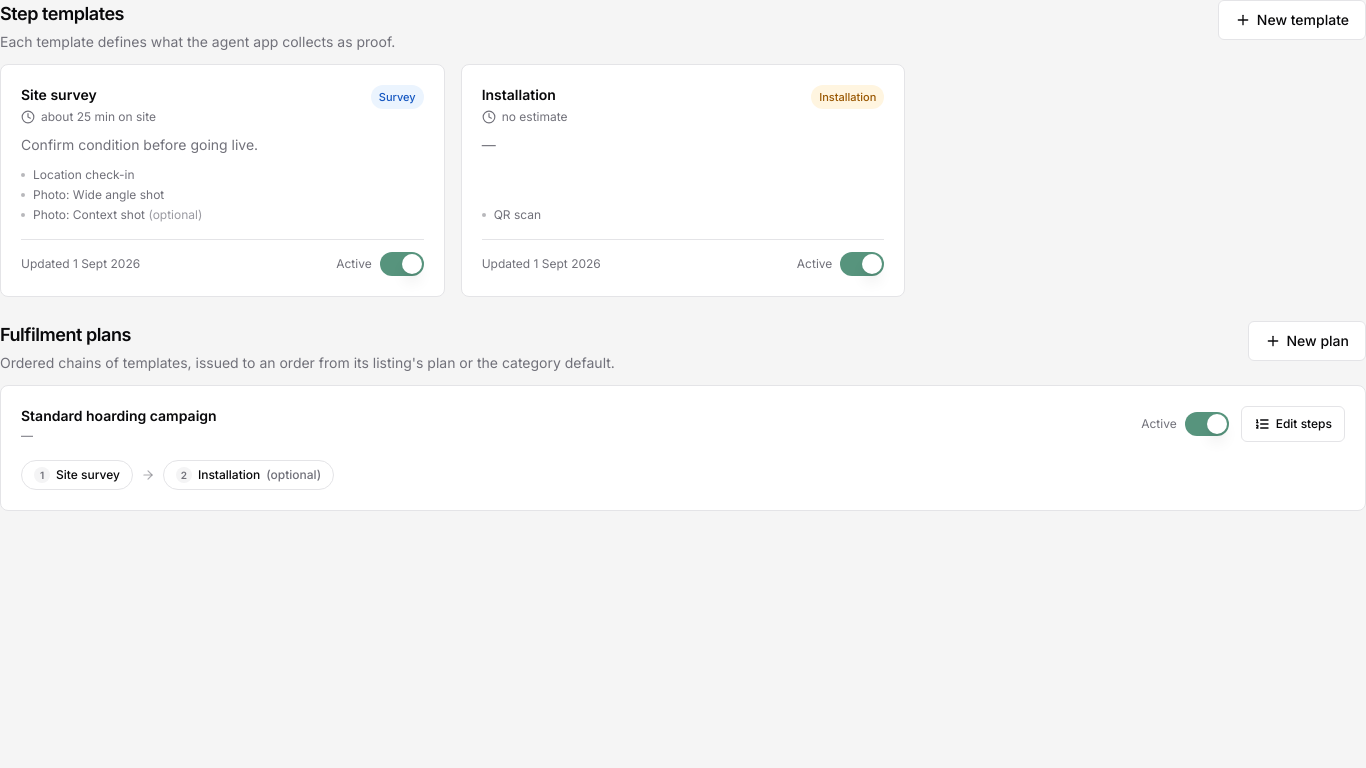
Scenario: editing a plan's steps › will not save an empty chain — the server refuses one
This screenshot has width=1366, height=768.
Click the button "Edit steps": (1293, 424) [1241,406,1345,442]
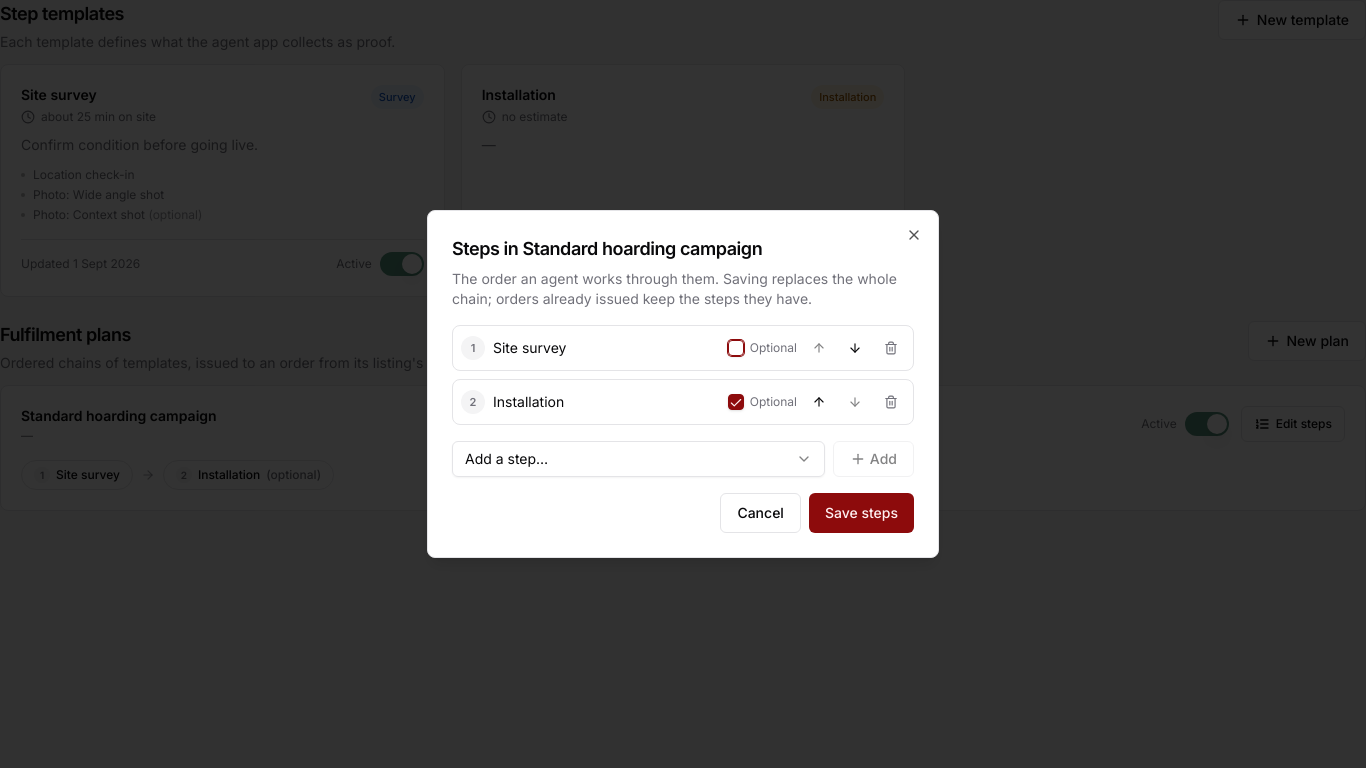
Click the 1st button named "Remove this step": (891, 348) [877,334,905,362]
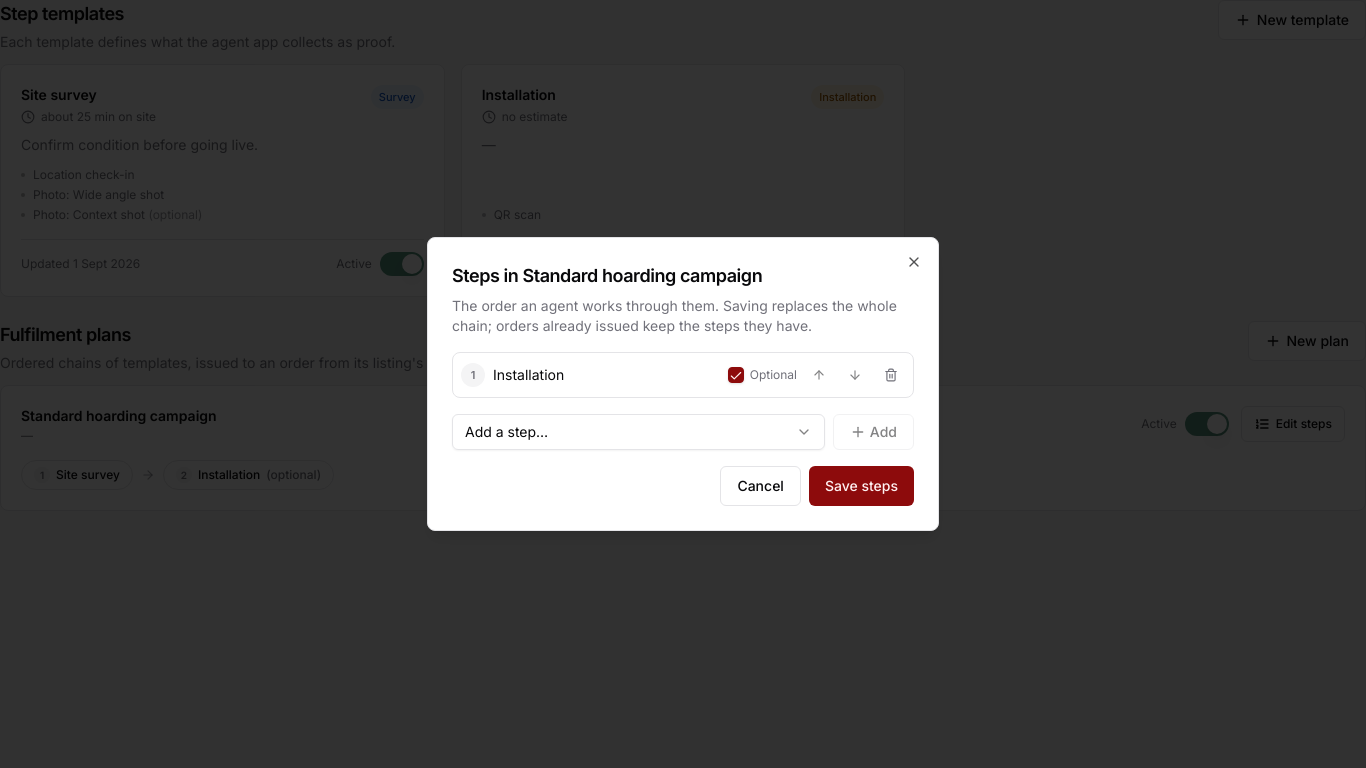
Click the button named "Remove this step": (891, 375) [877,361,905,389]
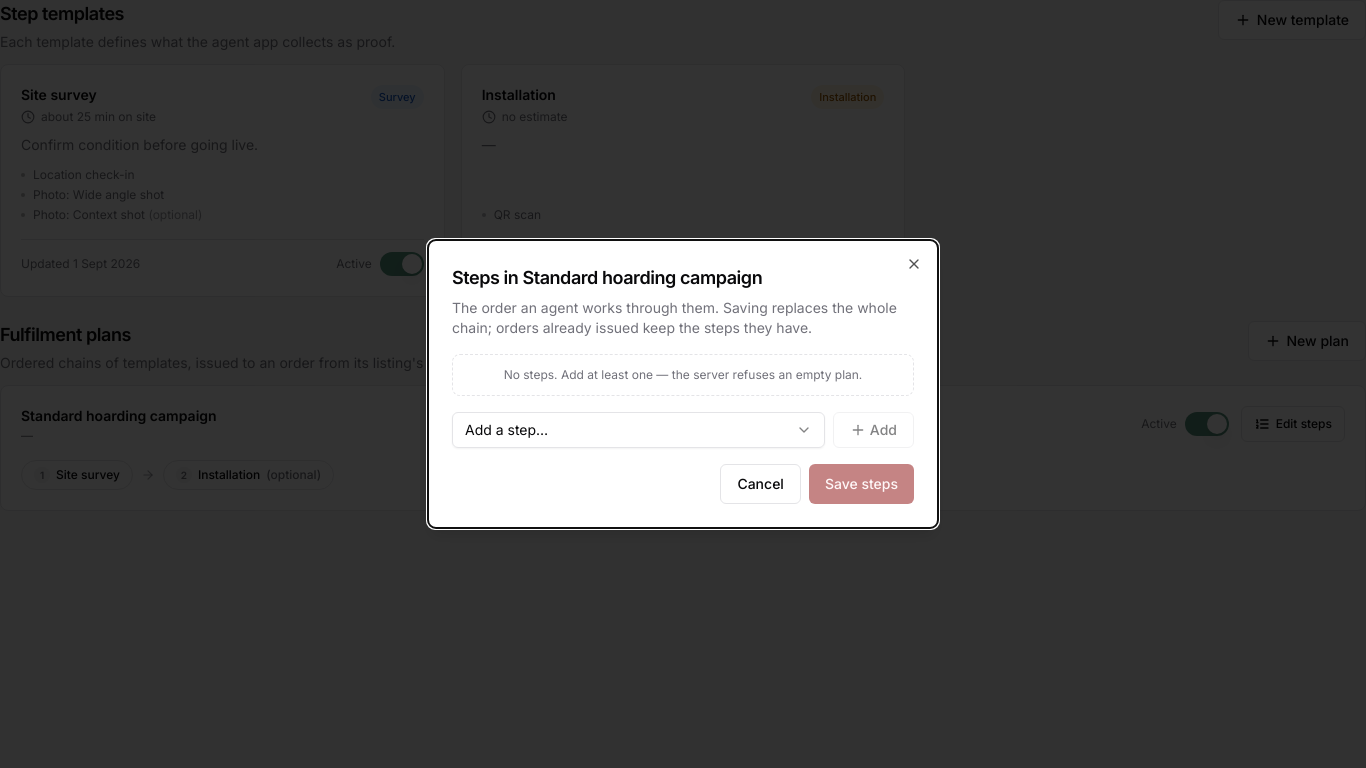
Expected: the text "the server refuses an empty plan" is shown, [504,367,862,382]
Expected: the button "Save steps" is disabled, [809,464,914,504]
